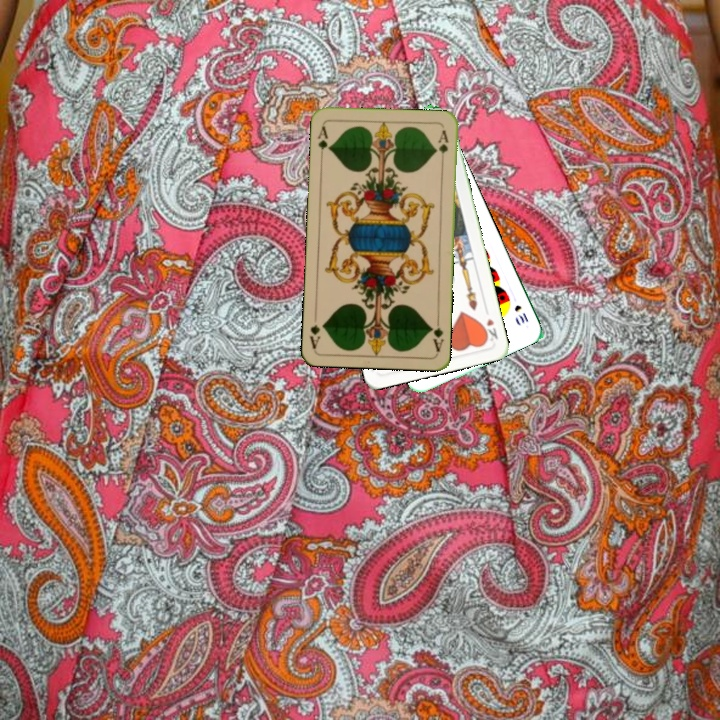GA: (426, 314, 446, 354), (314, 121, 332, 161)
HK: (479, 314, 500, 346)
S10: (510, 301, 531, 326)
